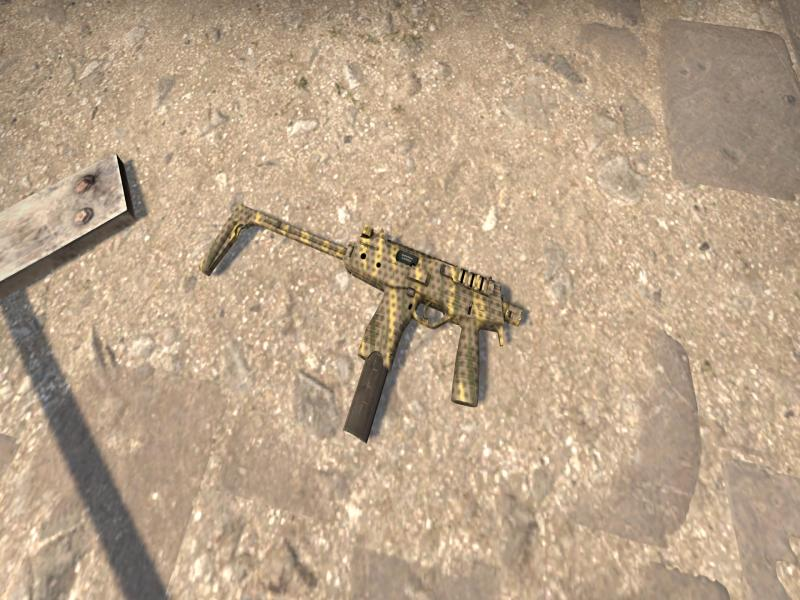MP9: (201, 204, 522, 440)
